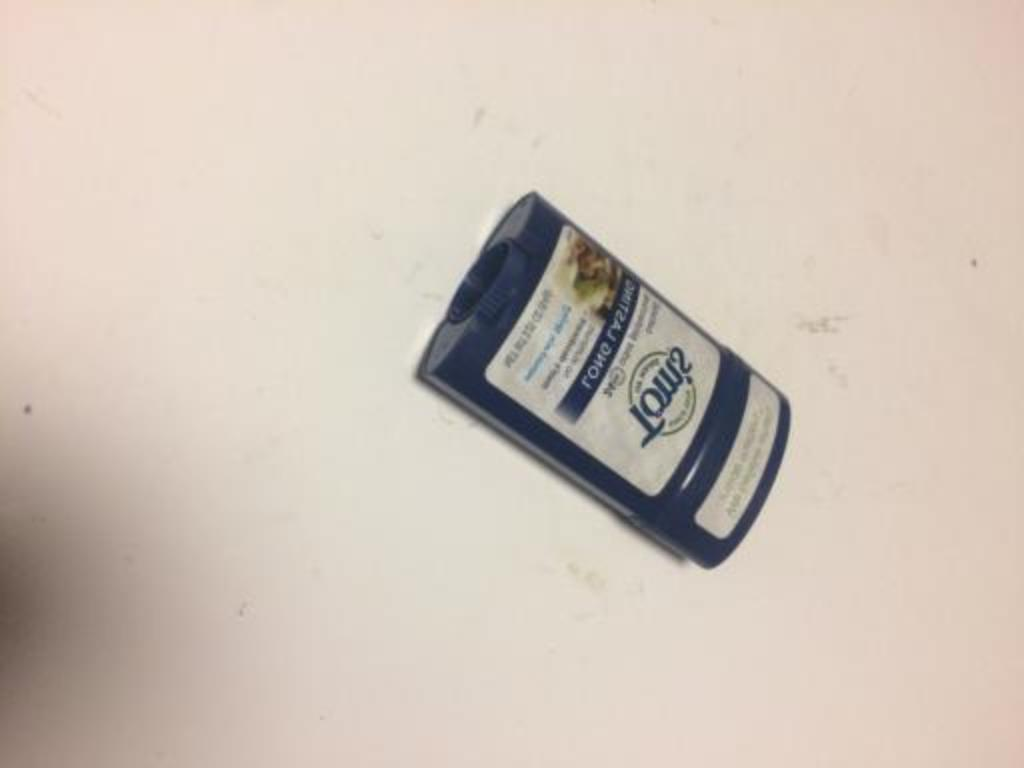garbage: (315, 156, 877, 656)
